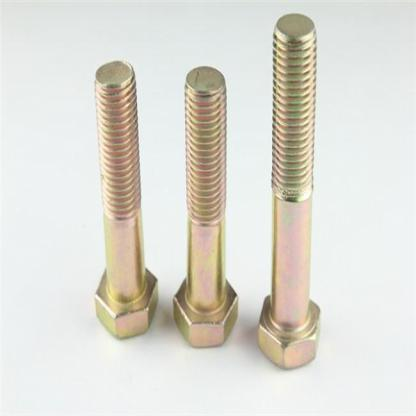FOD: (254, 10, 325, 371), (90, 56, 160, 344), (171, 62, 240, 350)
